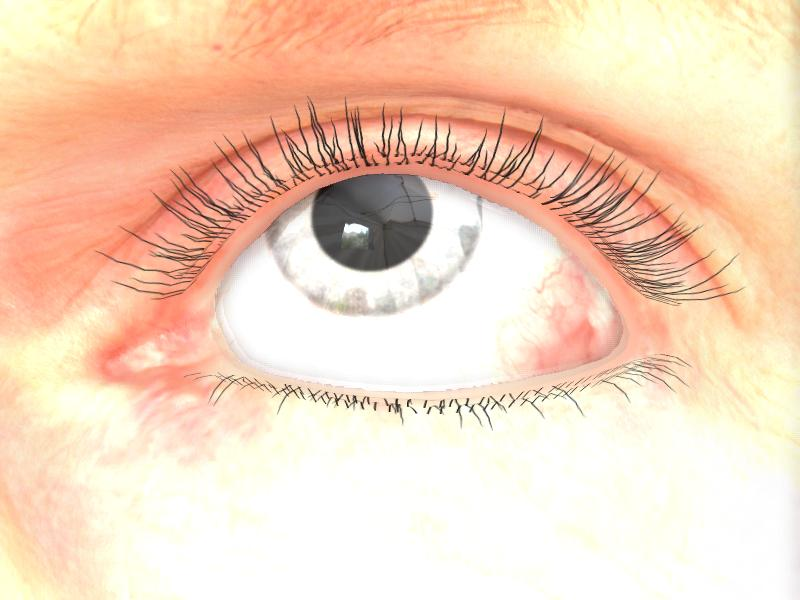eye: (263, 172, 484, 314)
